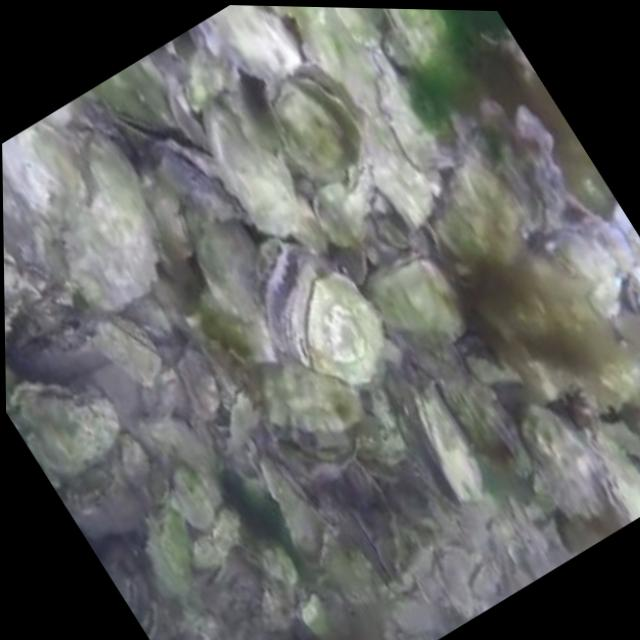Oyster-Closed: (371, 249, 465, 340), (415, 384, 485, 499), (150, 140, 245, 224), (588, 427, 640, 526), (382, 8, 450, 67), (107, 559, 141, 617), (132, 574, 159, 640)
Oyster-Indeterminate: (430, 124, 541, 278), (66, 131, 158, 311), (208, 104, 294, 228), (377, 45, 461, 168), (525, 403, 607, 517), (183, 207, 260, 315), (192, 5, 295, 79), (200, 285, 272, 365), (148, 492, 193, 597), (140, 169, 192, 259), (96, 317, 157, 384), (179, 346, 220, 417), (440, 547, 477, 618), (171, 466, 211, 527), (303, 595, 336, 640), (474, 562, 498, 599), (274, 6, 321, 23), (511, 498, 529, 537)
Oyster-Open: (263, 241, 388, 386), (277, 59, 369, 186), (258, 350, 364, 456), (9, 379, 118, 475), (113, 111, 165, 160), (619, 314, 640, 349)
